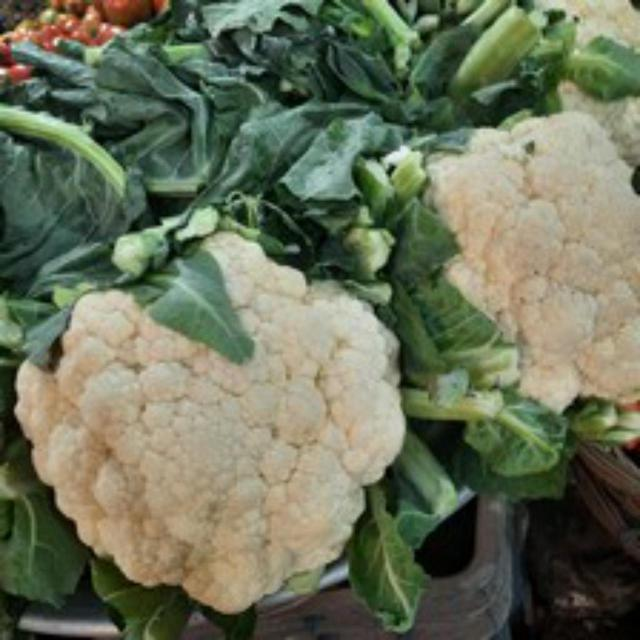cauliflower: (11, 207, 411, 623)
